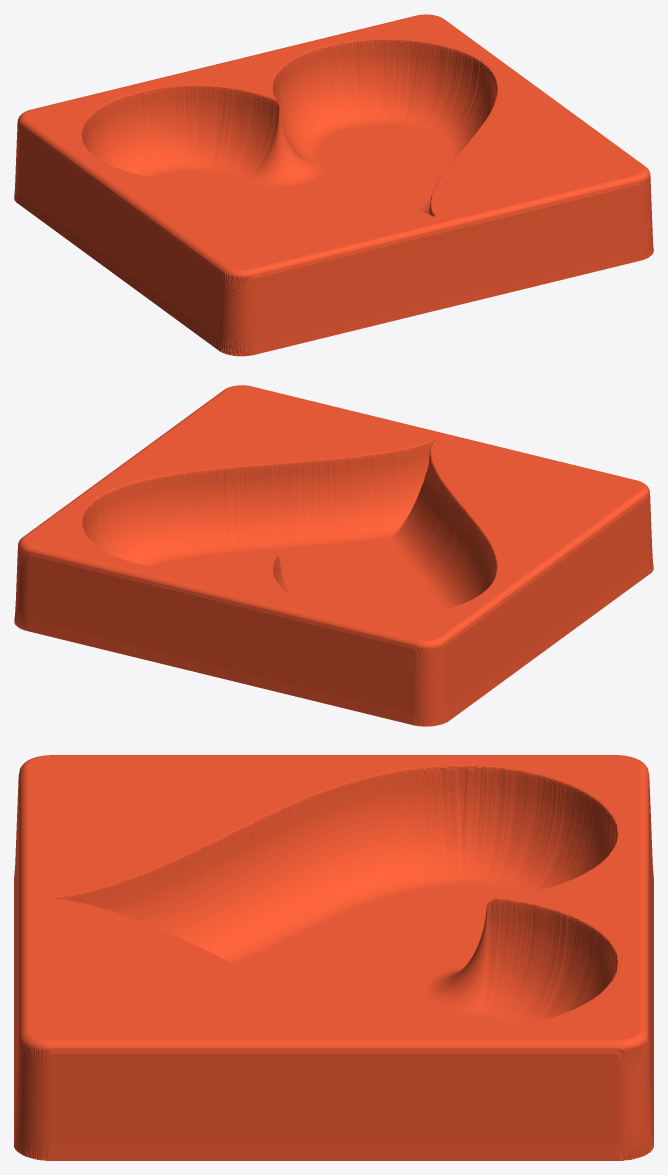
File: mold.glb
3 renders of one model, top to bottom at view 1: azimuth 30°, elevation 25°; view 2: azimuth 150°, elevation 25°; view 3: azimuth 270°, elevation 25°, orthographic. The views are drawn at different scales.
Parts seen in each view (by area): view 1: geometry_0; view 2: geometry_0; view 3: geometry_0.
Part boxes in pixels (left/top/right/bottom): geometry_0: left=14, top=14, right=653, bottom=356; geometry_0: left=14, top=385, right=653, bottom=726; geometry_0: left=14, top=755, right=653, bottom=1160.
Size of the model in its own units: 0.1709 by 0.031 by 0.1562.
